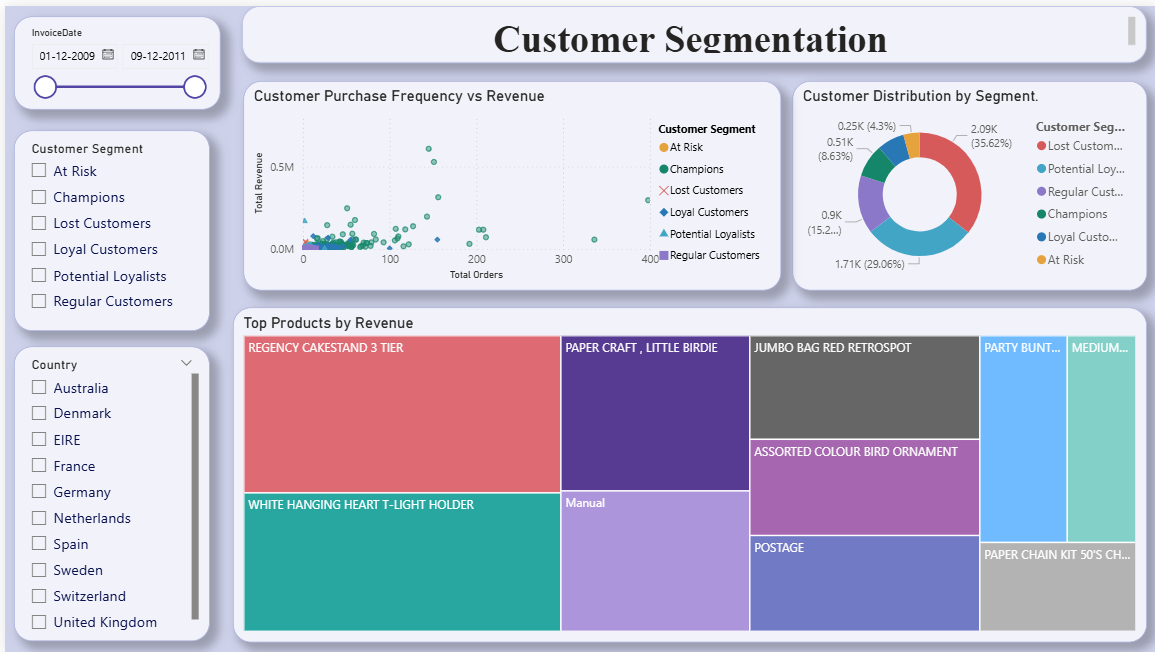

Layout of this report page (visuals, bound fields, positions):
{"tool":"powerbi","page":{"name":"Customer Segmentation","canvas":[1280,720],"ordinal":1},"visuals":[{"type":"textbox","box":[264,0,1005.3,63.6],"z":0},{"type":"donutChart","title":"Customer Distribution by Segment.","fields":{"Category":["CustomerSummary.Customer Segment"],"Y":["Count(CustomerSummary.Customer ID)"]},"box":[874.3,83.2,393.8,232.6],"z":1000},{"type":"treemap","title":"Top Products by Revenue","fields":{"Group":["RetailData.Description"],"Values":["RetailData.Total Revenue"]},"box":[252.9,334.4,1015.2,371.8],"z":2000},{"type":"scatterChart","title":"Customer Purchase Frequency vs Revenue","fields":{"X":["CustomerSummary.Total Orders"],"Y":["CustomerSummary.Total Revenue"],"Series":["CustomerSummary.Customer Segment"]},"box":[264.8,83.2,597.6,232.6],"z":3000},{"type":"slicer","fields":{"Values":["CustomerSummary.Customer Segment"]},"box":[10.2,137.5,217.3,222.4],"z":4000},{"type":"slicer","fields":{"Values":["RetailData.Country"]},"box":[10.2,378.6,217.3,327.6],"z":5000},{"type":"slicer","fields":{"Values":["RetailData.InvoiceDate"]},"box":[9.5,11.1,229,103.4],"z":6000}]}

Visuals, with their boxes in screenshot pixels (x1, y1, x2, y2), scaled from the page's 1280x720 canvas onto the 1155x652 screenshot:
textbox: pyautogui.locateOnScreen(238, 0, 1145, 58)
"Customer Distribution by Segment." donutChart: pyautogui.locateOnScreen(789, 75, 1144, 286)
"Top Products by Revenue" treemap: pyautogui.locateOnScreen(228, 303, 1144, 640)
"Customer Purchase Frequency vs Revenue" scatterChart: pyautogui.locateOnScreen(239, 75, 778, 286)
slicer - CustomerSummary.Customer Segment: pyautogui.locateOnScreen(9, 125, 205, 326)
slicer - RetailData.Country: pyautogui.locateOnScreen(9, 343, 205, 640)
slicer - RetailData.InvoiceDate: pyautogui.locateOnScreen(9, 10, 215, 104)
